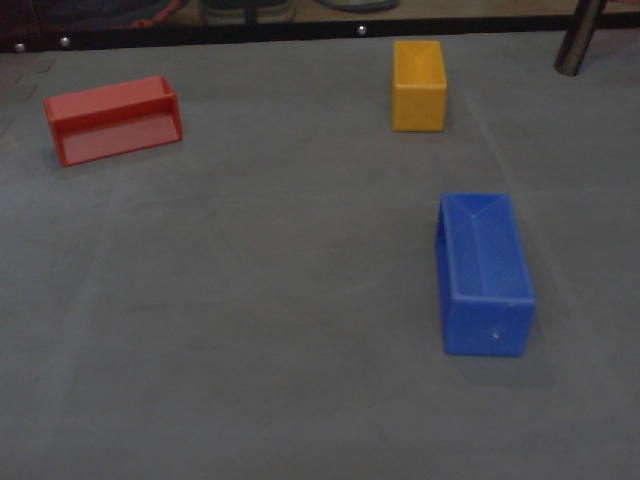BlueSample: (432, 190, 538, 360)
RedSample: (41, 70, 181, 171)
YellowSample: (390, 35, 448, 135)
